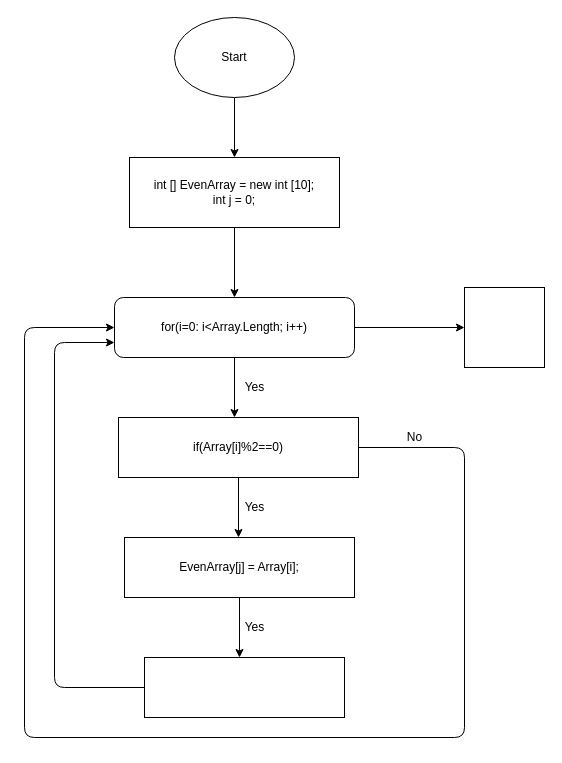
Some shapes in this 562 by 763 pixel diagram are drawn without their labels. The centre of each missing label's shape, as x and y in pixels:
Console.Write(EvenArray);: (244,687)
The End: (504,327)
